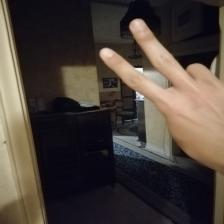two: (95, 16, 224, 160)
